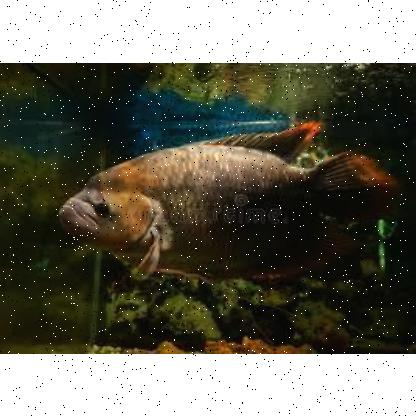gurame: (58, 127, 388, 279)
